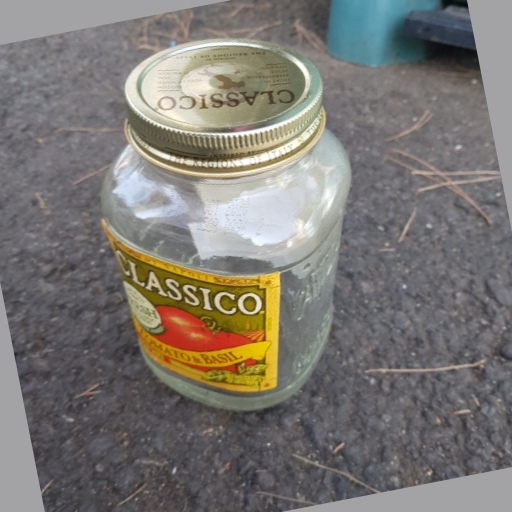Glass_5: (98, 39, 354, 416)
